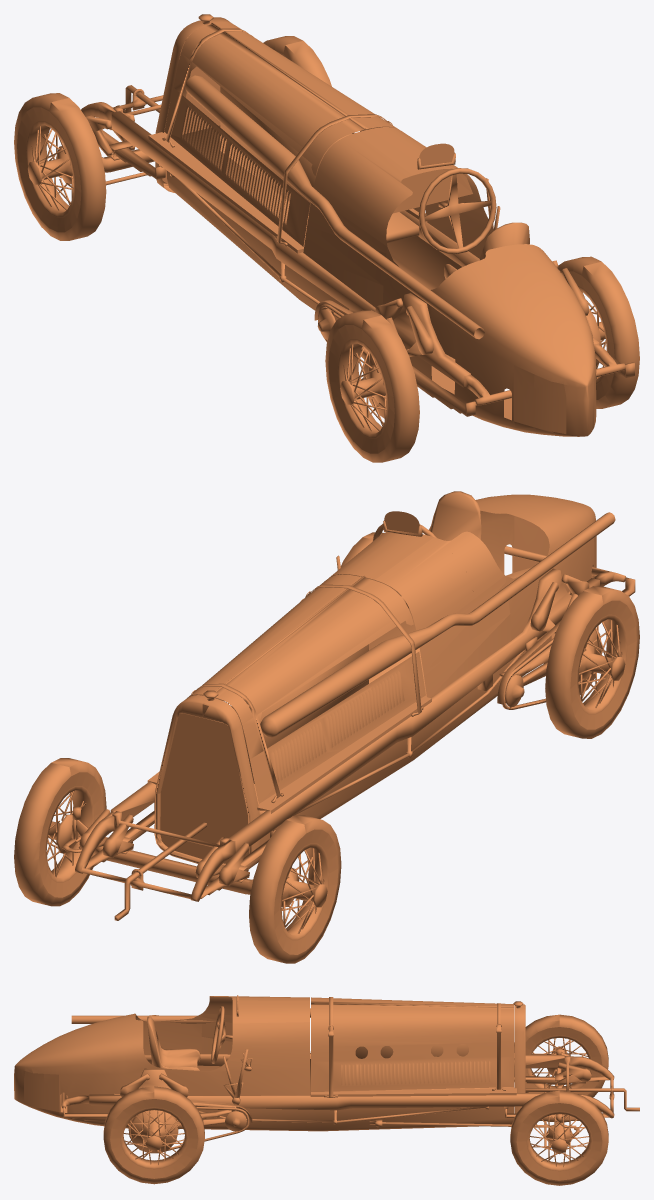
The model's file is cars1.obj.
3 views of the same model, one above another, from view 1: azimuth 30°, elevation 25°; view 2: azimuth 150°, elevation 25°; view 3: azimuth 270°, elevation 25° (orthographic). The views are drawn at different scales.
Visible parts, largest first — view 1: MEFCAR; view 2: MEFCAR; view 3: MEFCAR.
Boxes of the visible parts, <box> form: MEFCAR: <box>14,14,639,462</box>; MEFCAR: <box>14,491,639,963</box>; MEFCAR: <box>14,995,639,1185</box>.
Size of the model in its own units: 212304 by 166057 by 603498.
